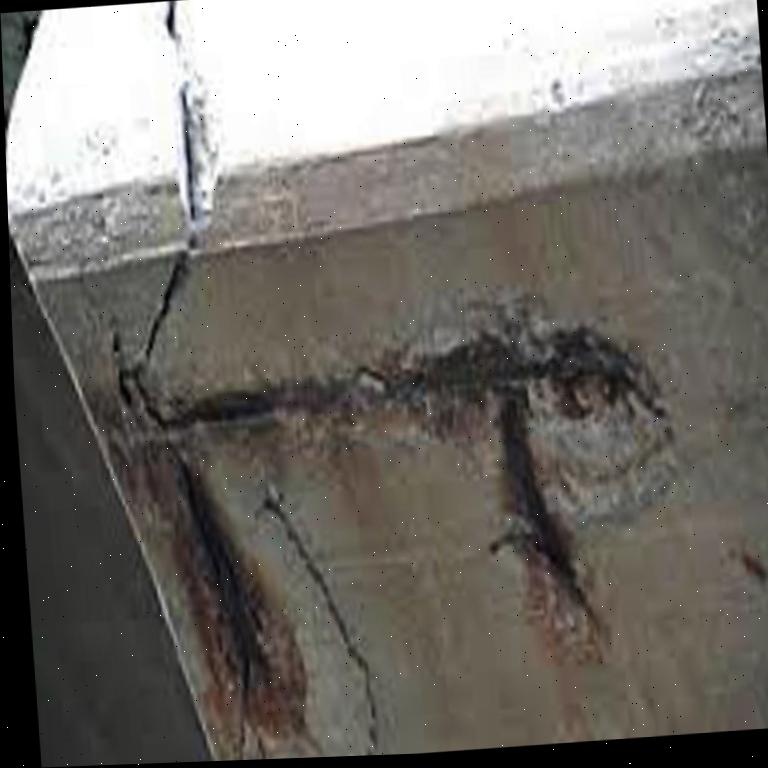spalling: (119, 261, 683, 760), (144, 1, 217, 359)
